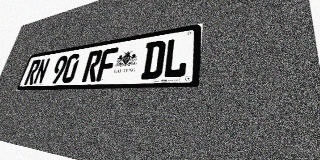0: (60, 53, 81, 83)
9: (49, 55, 69, 84)
D: (140, 40, 166, 79)
F: (96, 47, 119, 82)
L: (162, 36, 189, 78)
N: (32, 58, 51, 85)
R: (81, 50, 103, 82), (24, 59, 41, 85)
